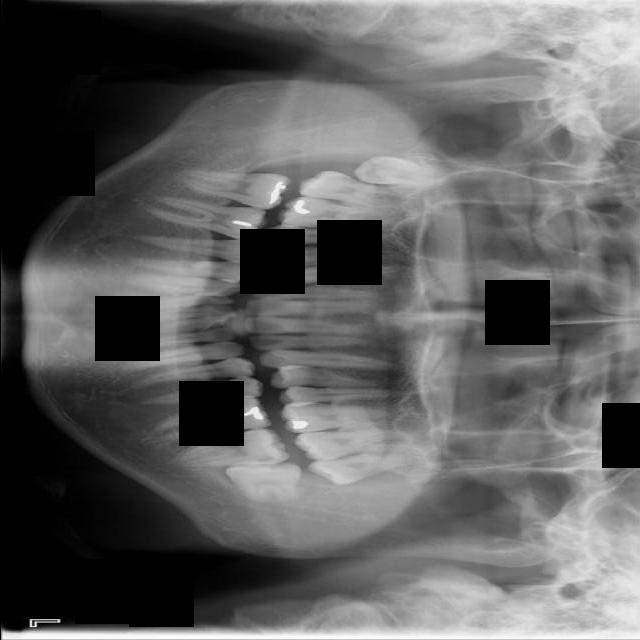3M ESPE Implant: (351, 152, 449, 193)
52: (219, 197, 271, 247), (226, 387, 274, 439), (237, 173, 292, 210), (276, 399, 328, 436), (274, 196, 328, 227), (363, 167, 382, 183), (256, 454, 273, 462)
73: (20, 620, 28, 626)
BioHorizons Implant: (292, 424, 429, 463)
BioLife Implant: (305, 446, 439, 490)
Biomet 3i Implant: (223, 457, 302, 505)
Blue Sky Bio Implant: (174, 426, 290, 469)
Caries: (295, 166, 423, 214)
Implant: (175, 169, 292, 211)
